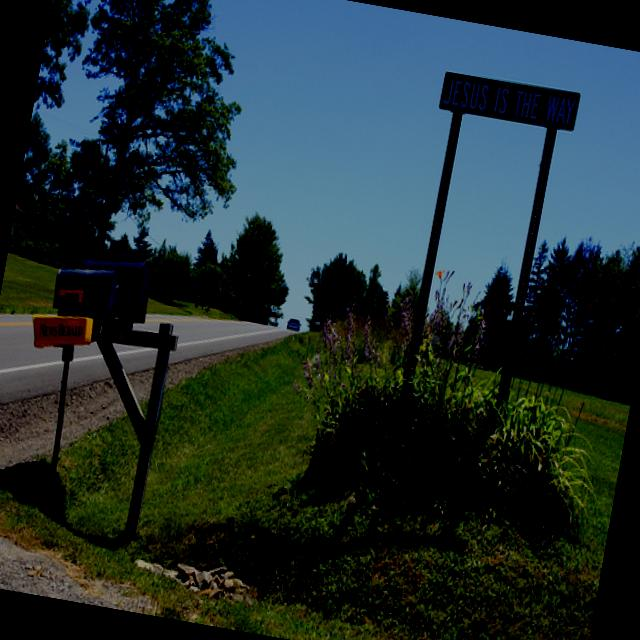Vehicle: (266, 307, 279, 328), (286, 317, 302, 330)
